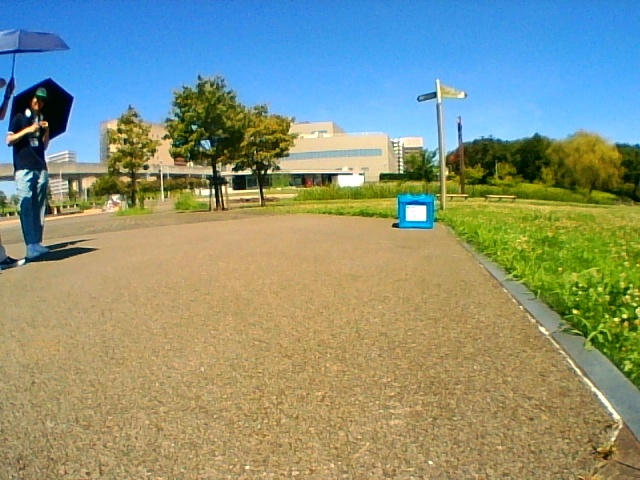blue_box: (399, 195, 432, 227)
tag: (406, 205, 426, 220)
